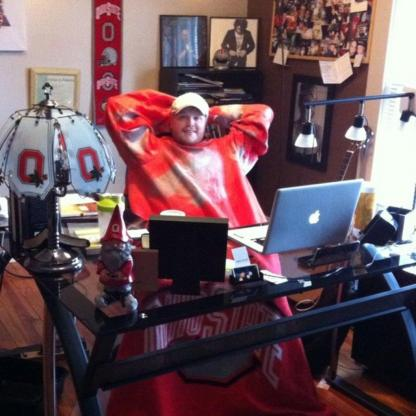board: (227, 175, 365, 253)
